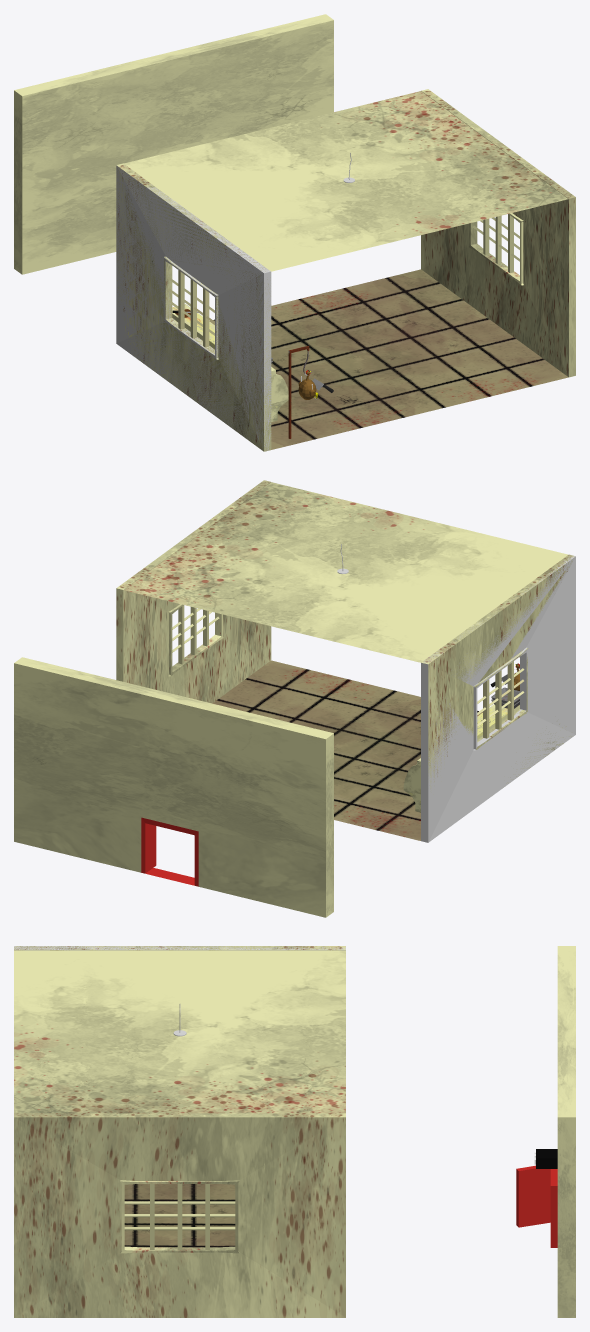
Rendered from depenadogameATT.fbx.
3 views of the same model, one above another, from view 1: azimuth 30°, elevation 25°; view 2: azimuth 150°, elevation 25°; view 3: azimuth 270°, elevation 25° (orthographic). The views are drawn at different scales.
Visible parts, largest first — view 1: roof, Cube.002, floor, Cube, wall2, wall1, BenchOld; view 2: Cube.002, roof, Cube, floor, wall1, wall2, BenchOld; view 3: wall1, roof, Cube.002, floor, wall2, Cube.
Part boxes in pixels (<box>): roof: <box>124,91,568,271</box>; Cube.002: <box>14,14,333,274</box>; floor: <box>209,269,568,449</box>; Cube: <box>116,165,271,450</box>; wall2: <box>116,163,271,451</box>; wall1: <box>421,89,575,377</box>; BenchOld: <box>172,304,288,422</box>; Cube.002: <box>14,657,333,917</box>; roof: <box>124,482,567,662</box>; Cube: <box>421,555,575,842</box>; floor: <box>212,660,482,840</box>; wall1: <box>116,480,271,703</box>; wall2: <box>421,554,574,788</box>; BenchOld: <box>403,704,519,812</box>; wall1: <box>14,1113,345,1317</box>; roof: <box>14,950,345,1113</box>; Cube.002: <box>516,946,575,1317</box>; floor: <box>124,1184,235,1247</box>; wall2: <box>14,946,345,950</box>; Cube: <box>14,946,345,950</box>.
Bounding box in the file's own units: 4388 × 2851 × 6093.
